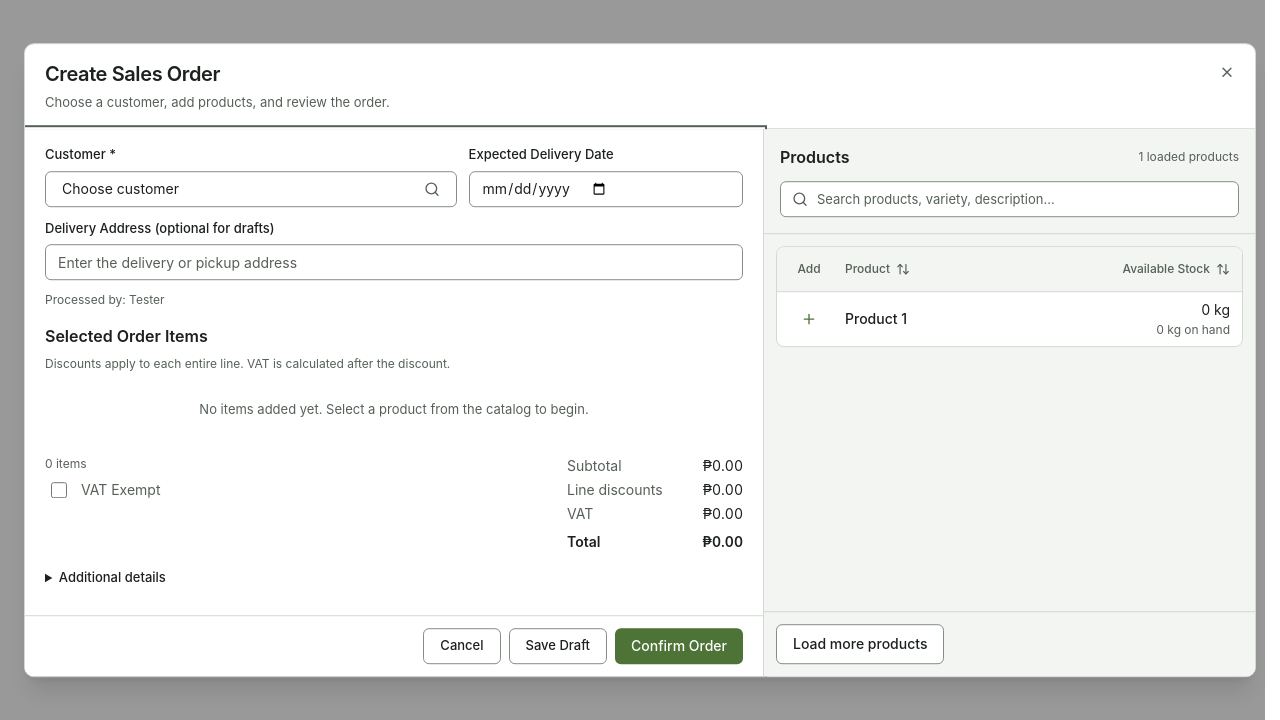
it: SO recovers invalid party cursors explicitly and keeps form data
The image size is (1280, 720).
Click the button with aria-label "Search and choose a customer" at (120, 188), box [45, 171, 457, 207]
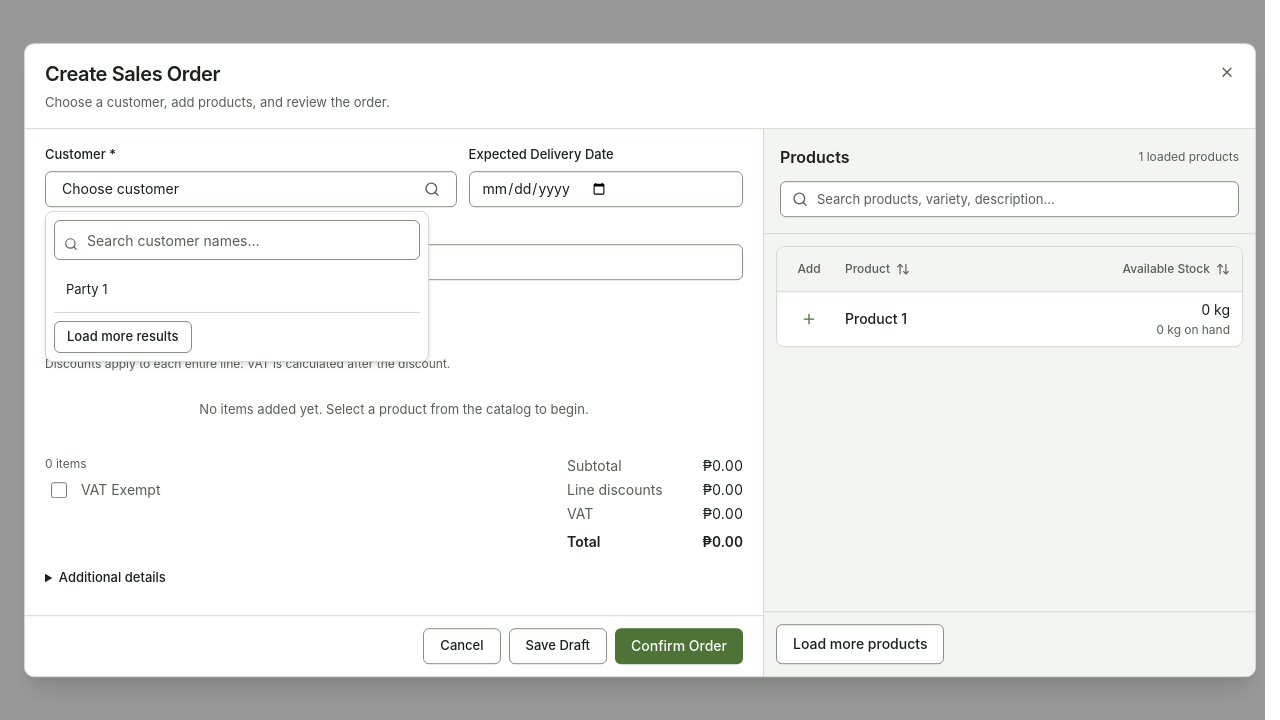
Click the button "Load more results" at (123, 337), box [54, 321, 192, 353]
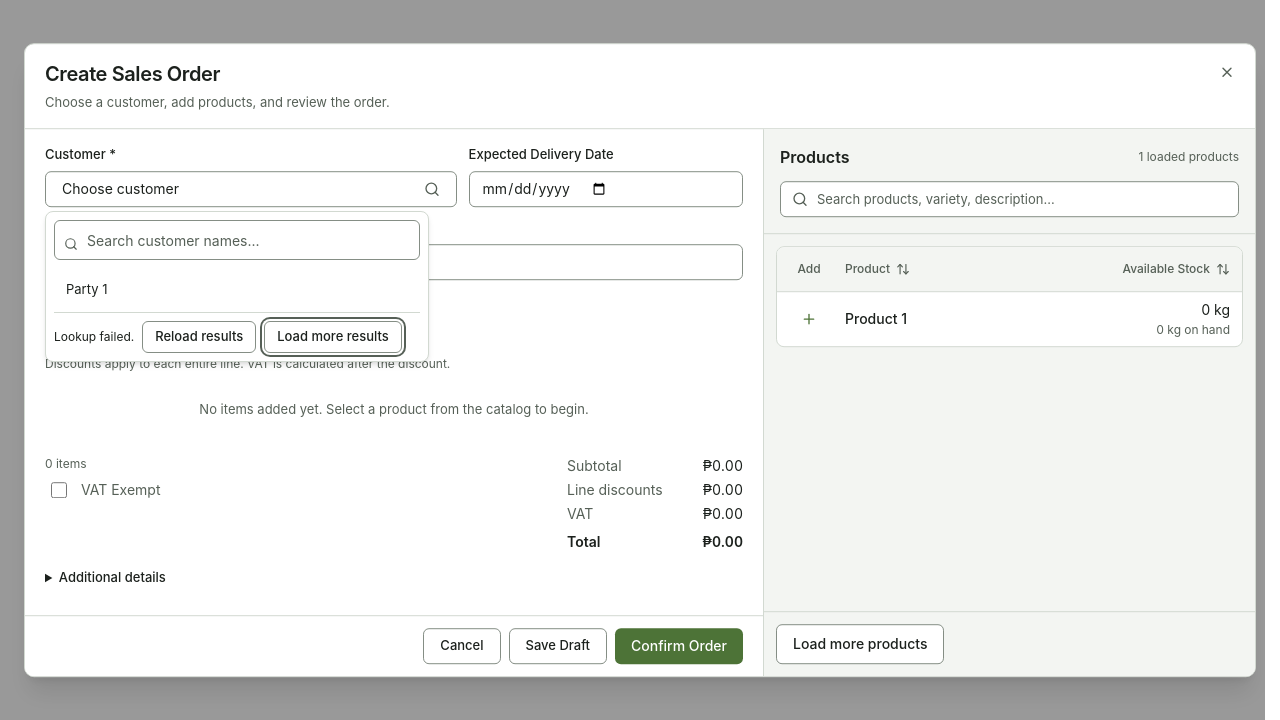
Expected: the button "Reload results" is shown
Click the button "Reload results" at (199, 337), box [142, 321, 256, 353]
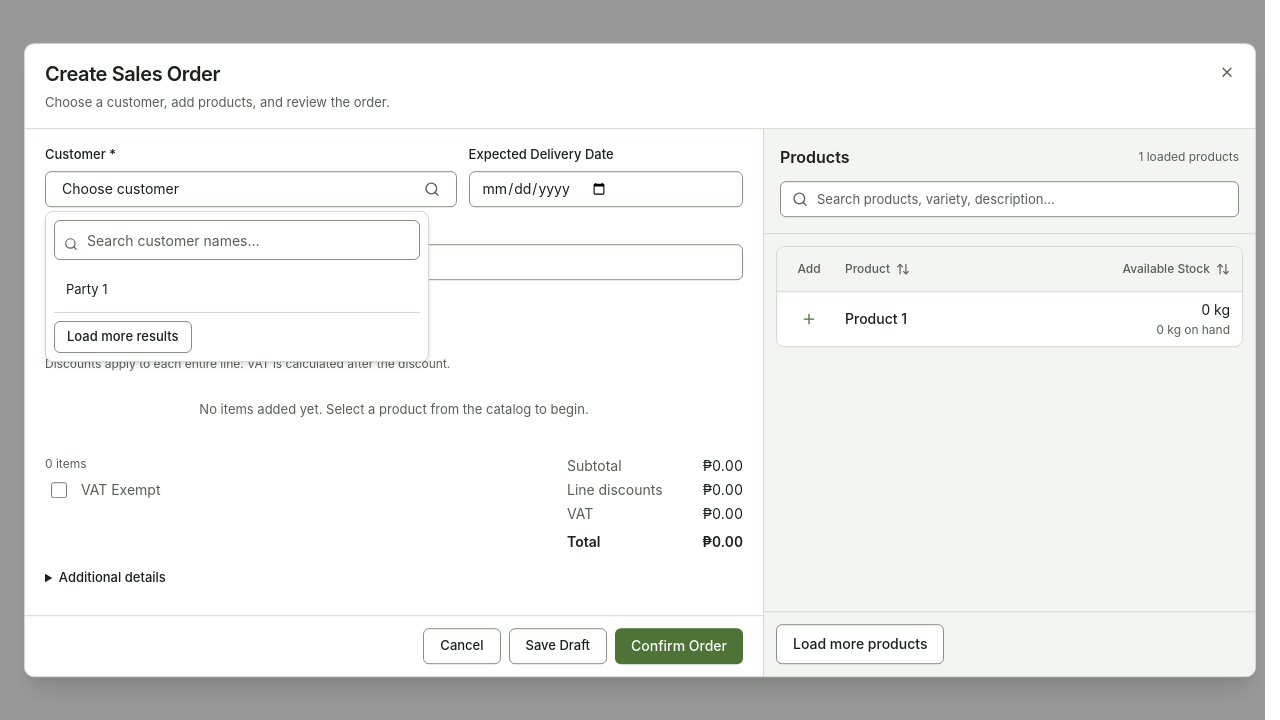
Click the menu item "Party 1" at (87, 289), box [66, 281, 108, 297]
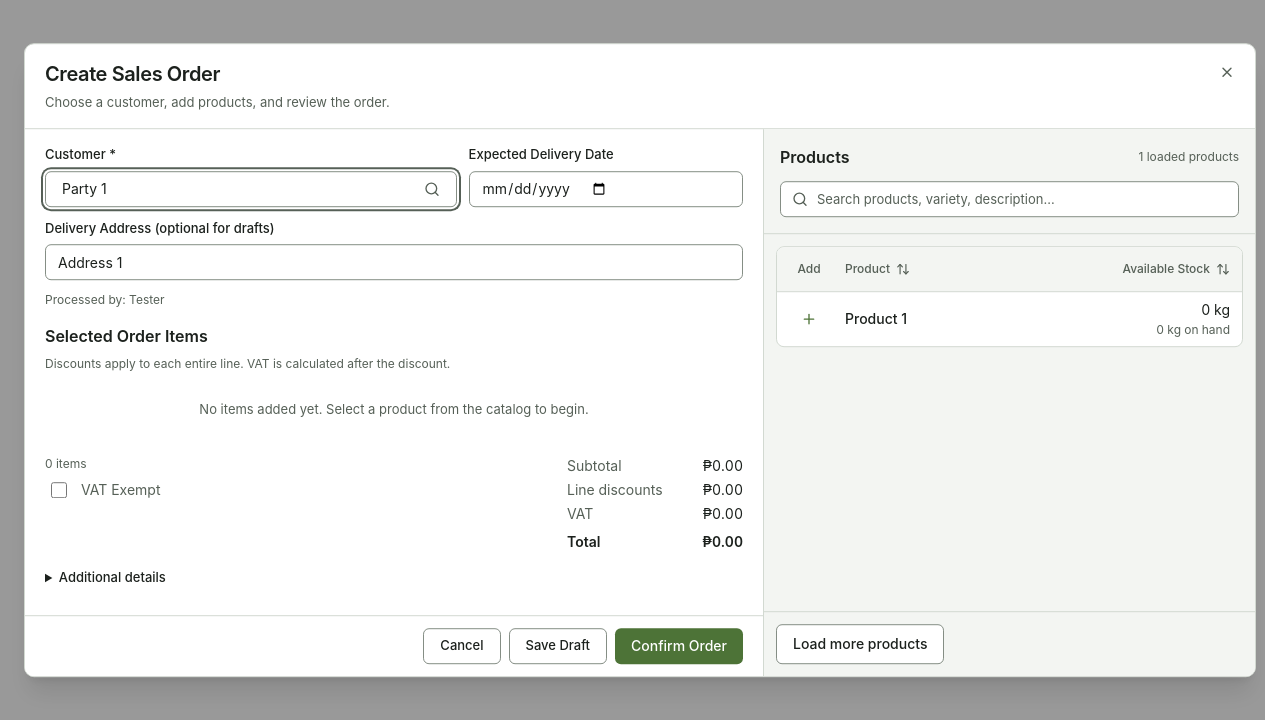
Expected: the button with aria-label "Search and choose a customer" reads "Party 1", [45, 171, 457, 207]
